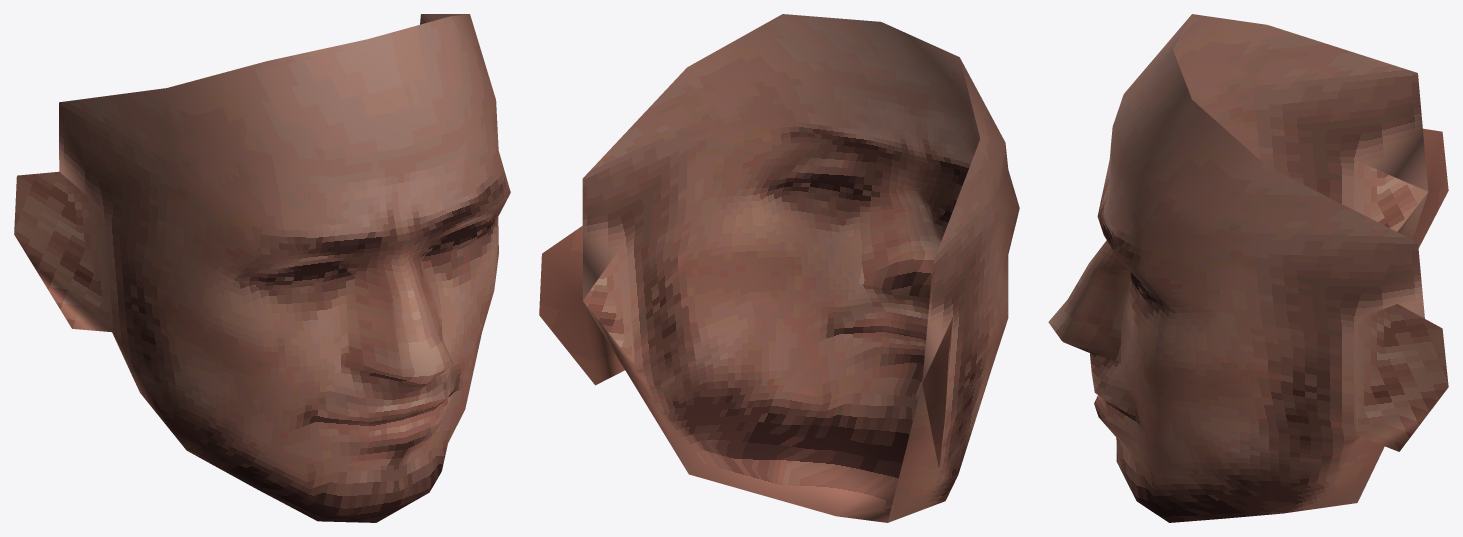
3 views of the same model, side by side, from view 1: azimuth 30°, elevation 25°; view 2: azimuth 150°, elevation 25°; view 3: azimuth 270°, elevation 25° (orthographic). The views are drawn at different scales.
Size of the model in its own units: 17.18 by 18.64 by 14.77.
Materials: 1 (1 with a texture image).
